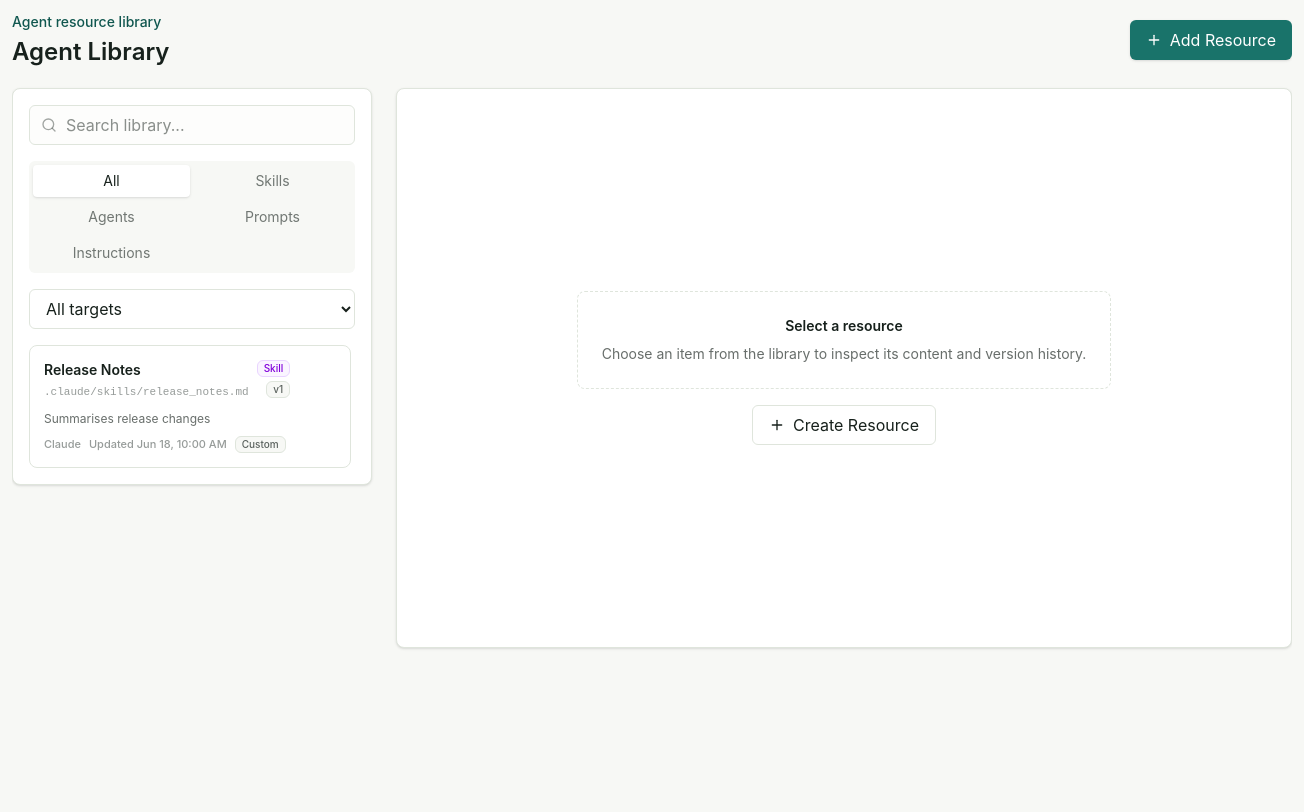
Test: AgentSkillsView › allows selecting versions to compare and renders diff side-by-side
Click on the resource to select it
Click the button "Release Notes".
click(92, 370)  # box [29,345,351,468]
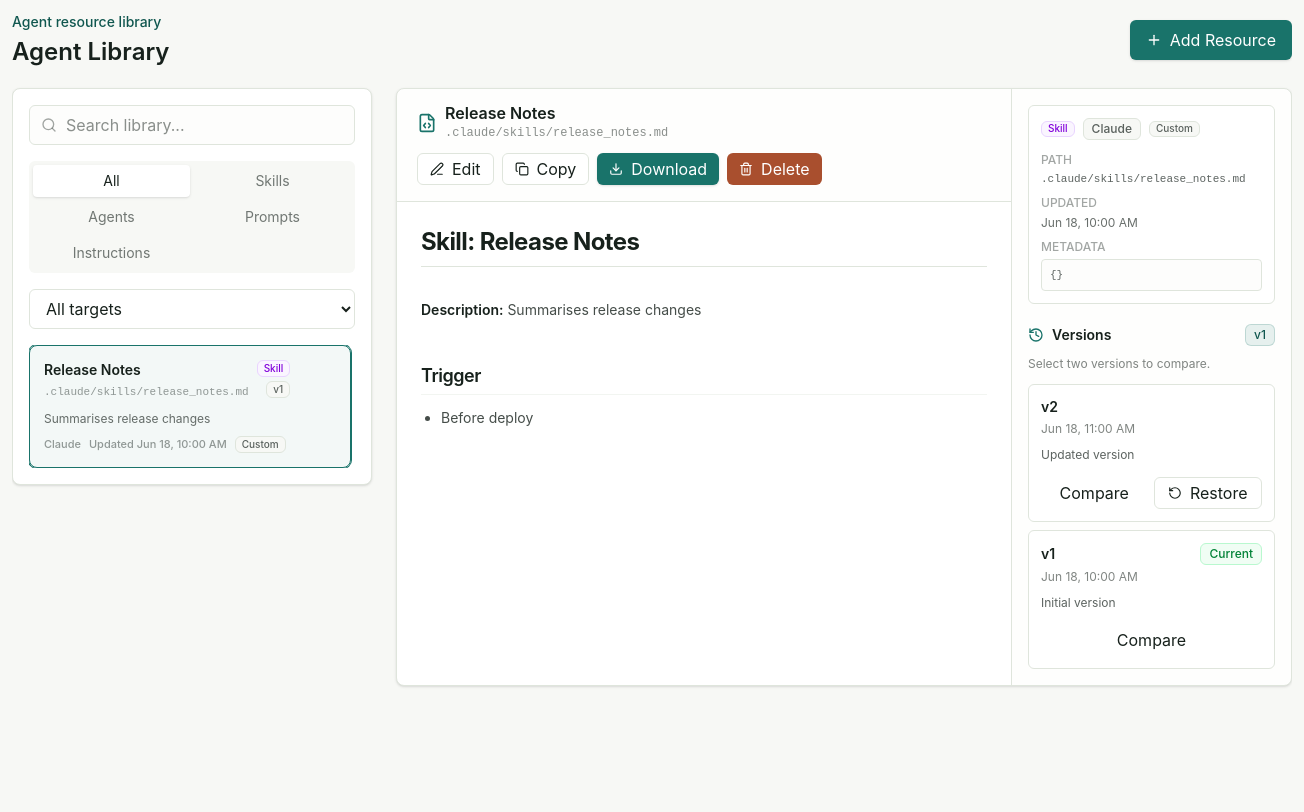
expect the number of buttons "Compare" is 2: met
Select version 2
Click the button "Compare" below "Updated version".
click(1094, 493)  # box [1041,477,1148,509]
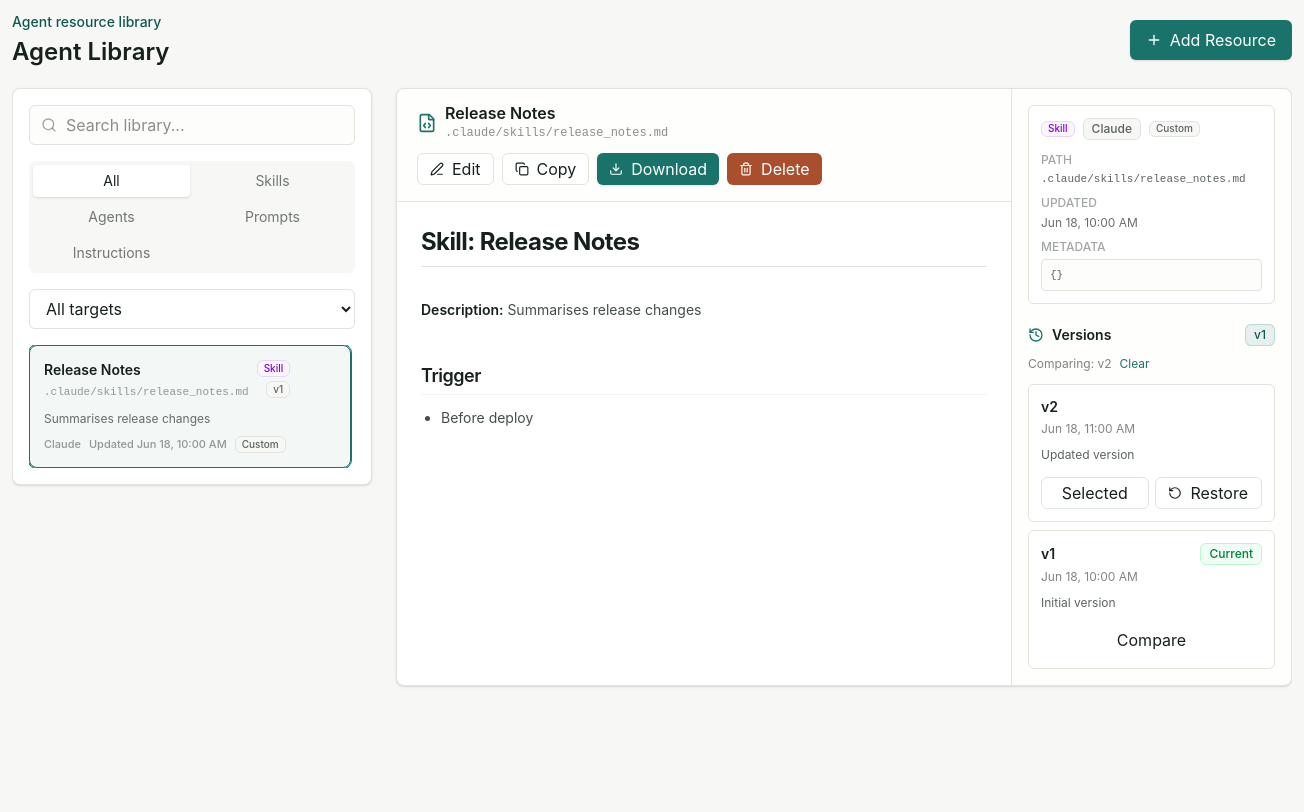
Select version 1
Click the button "Compare".
click(1152, 640)  # box [1041,624,1262,656]
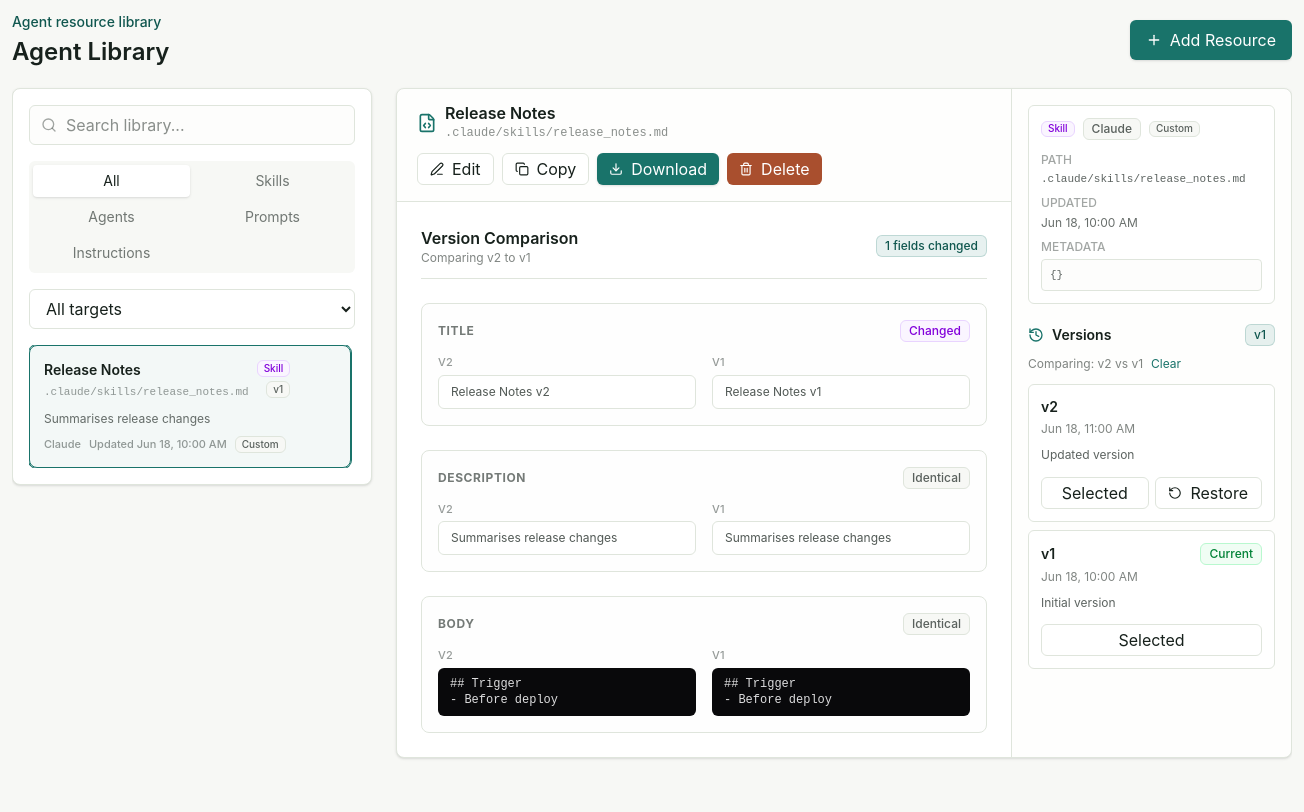
expect the heading "Version Comparison" is shown: met, box [421,226,578,250]
expect the text "Comparing v2 to v1" is shown: met, box [421,250,530,265]
expect the text "Release Notes v2" is shown: met, box [438,374,696,408]
